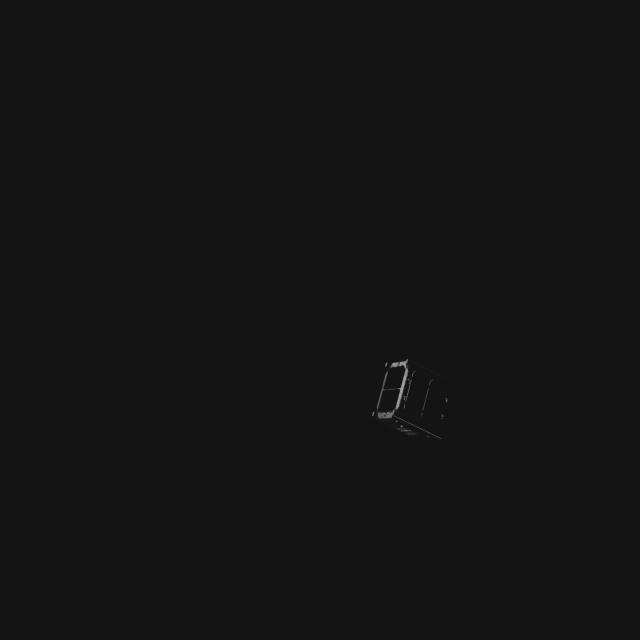medium_debris: (371, 358, 461, 450)
